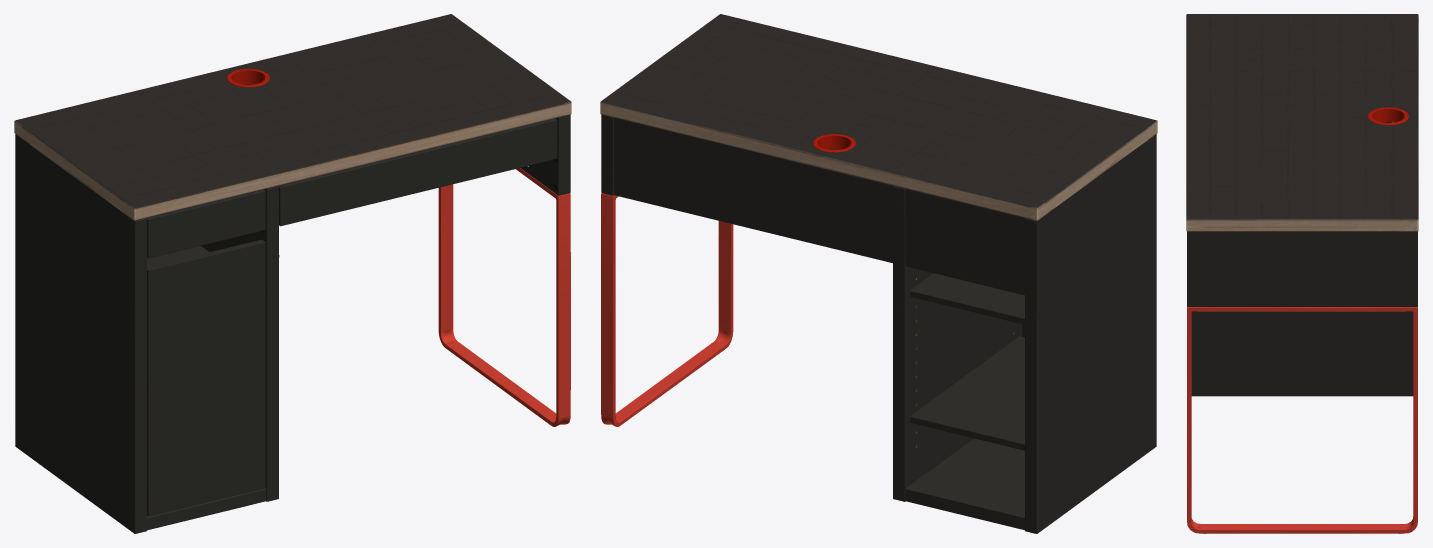
The picture shows the model from 3 angles, left to right: view 1: azimuth 30°, elevation 25°; view 2: azimuth 150°, elevation 25°; view 3: azimuth 270°, elevation 25°; orthographic projection. The views are drawn at different scales.
Visible parts, largest first — view 1: 80489850-MICKE001; view 2: 80489850-MICKE001; view 3: 80489850-MICKE001.
Boxes of the visible parts, <box> form: 80489850-MICKE001: <box>14,14,571,533</box>; 80489850-MICKE001: <box>600,14,1157,533</box>; 80489850-MICKE001: <box>1186,14,1418,533</box>.
Bounding box in the file's own units: 1.05 × 0.7525 × 0.5001.
Materials: 1 (1 with a texture image).
